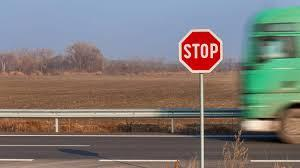Pole: (199, 76, 204, 166)
Sign: (177, 29, 224, 72)
